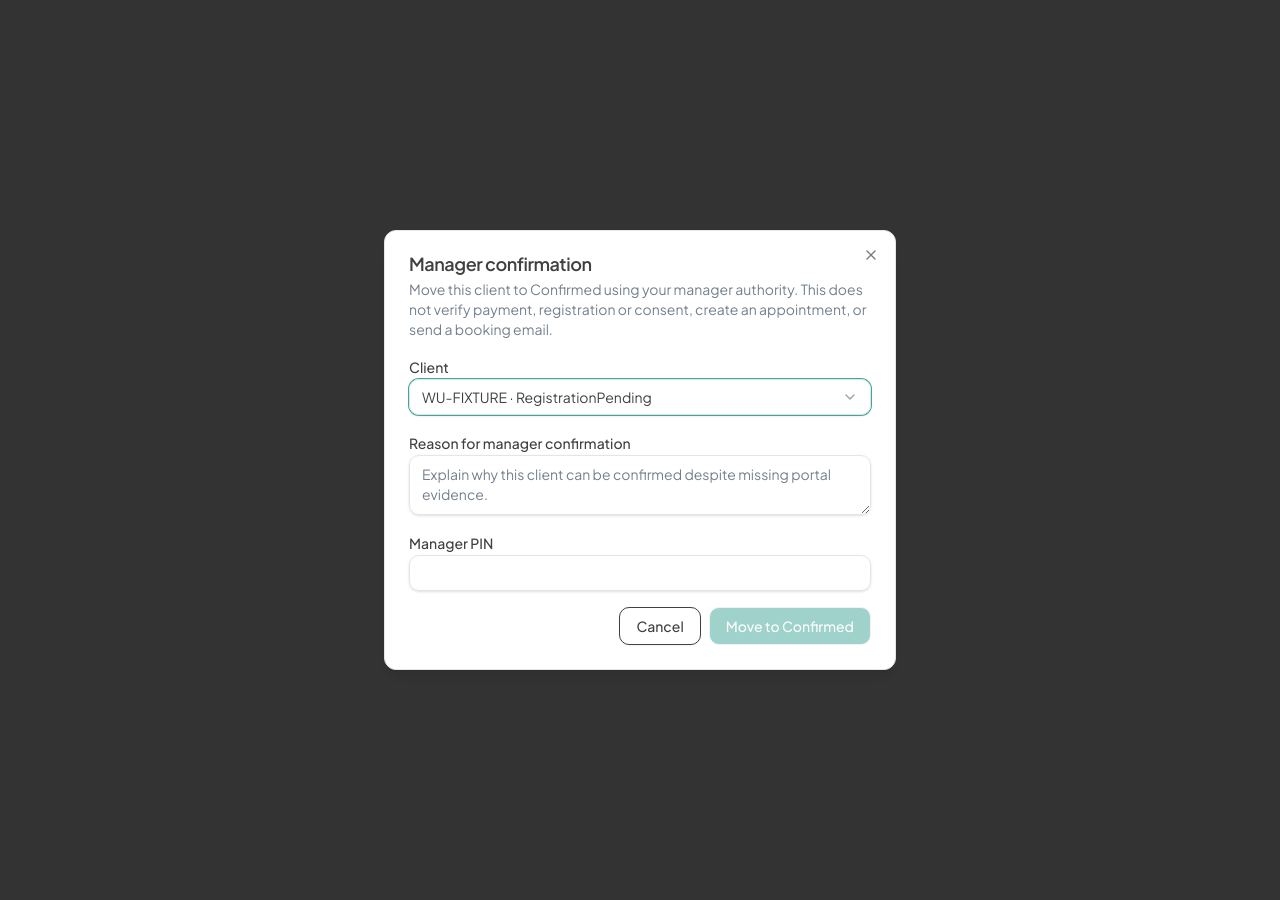
Test: manager confirmation dialog › does not claim a new manager override if the client was confirmed concurrently
In the password field labelled "Manager PIN": (640, 573) [409,555,871,591], type "864209"
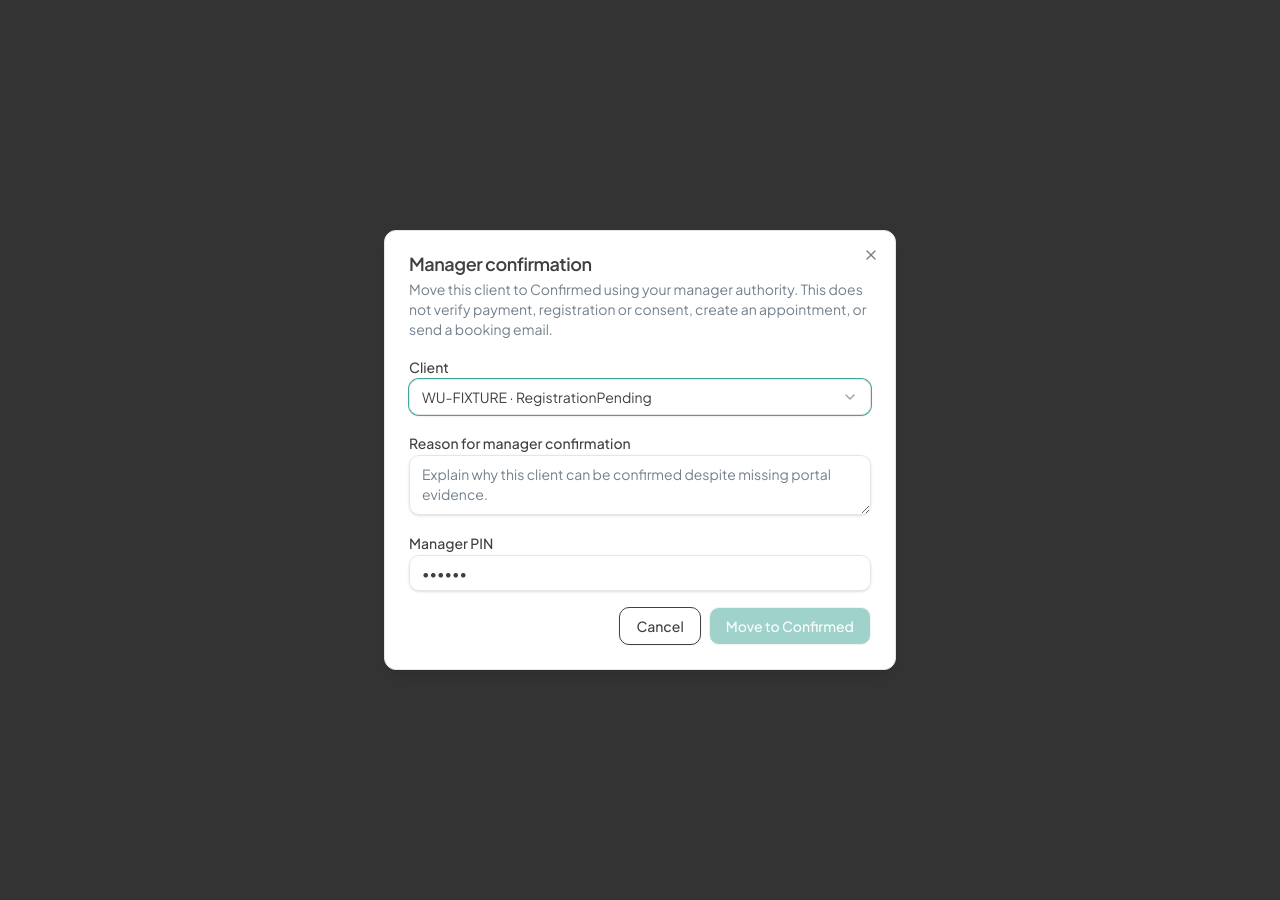
Replace the text in the text box labelled "Reason for manager confirmation" with "Confirmed in practice records.": (640, 485) [409,455,871,515]
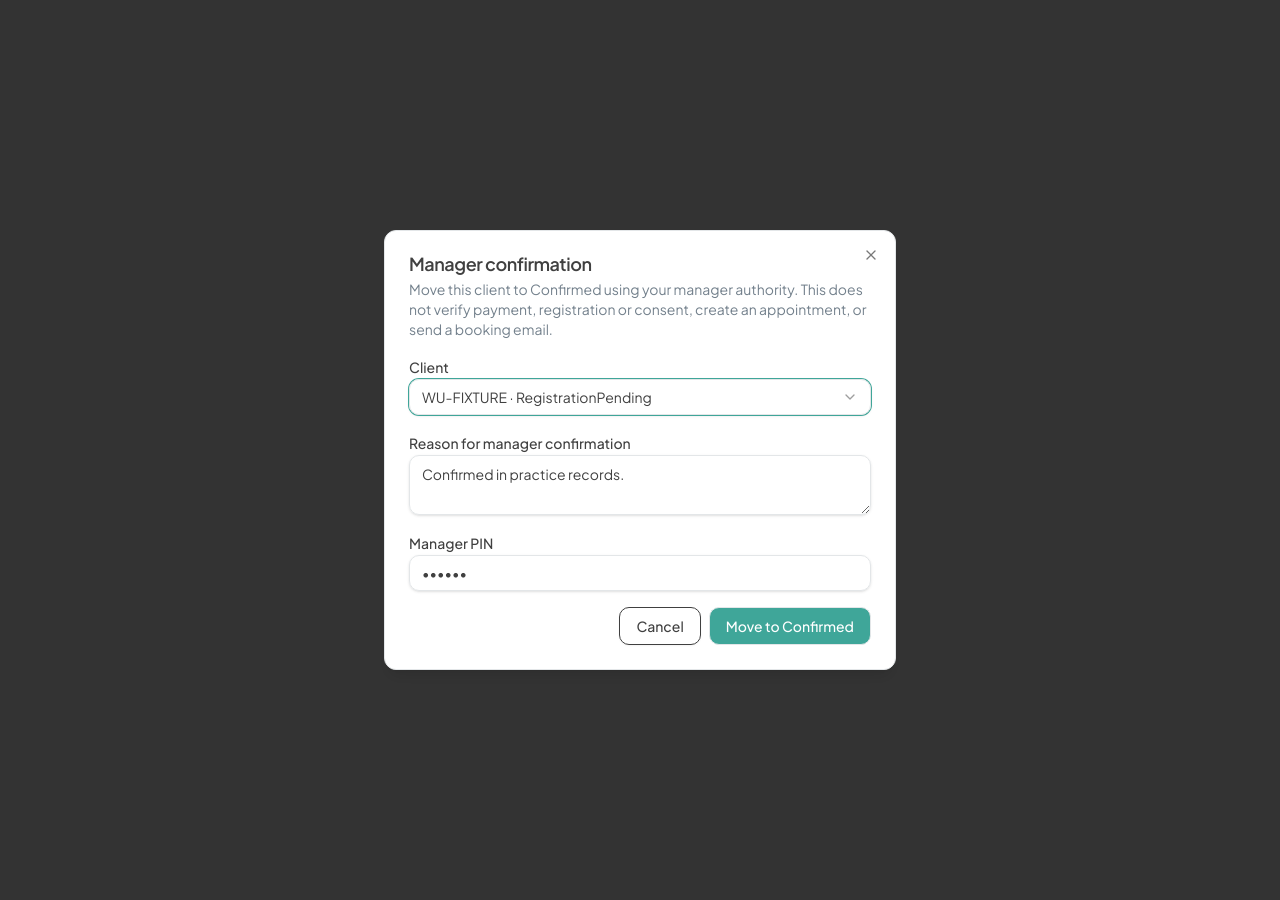
Click the button "Move to Confirmed": (790, 626) [709,607,871,645]
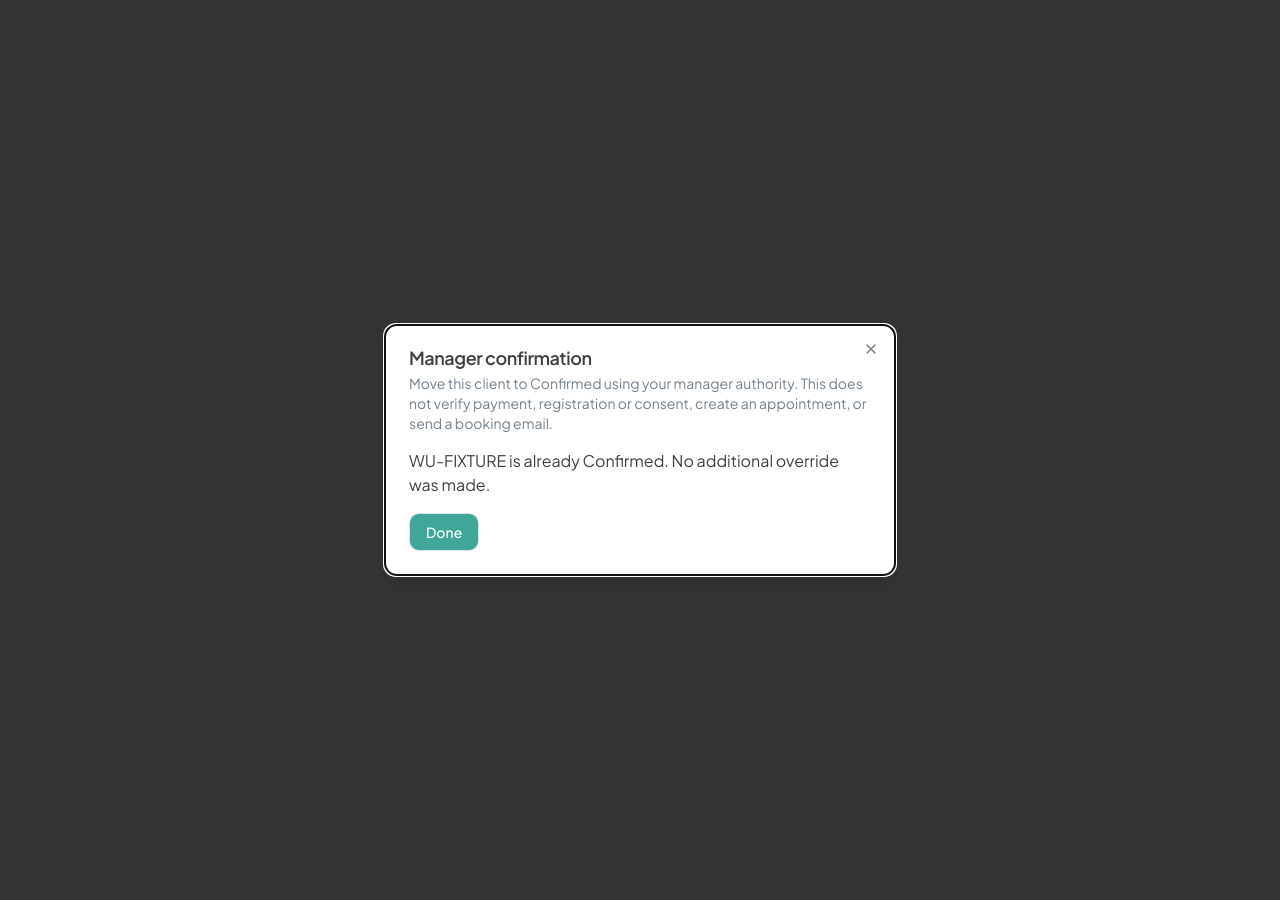
Check: the message shows "No additional override was made", box [409,450,839,495]
